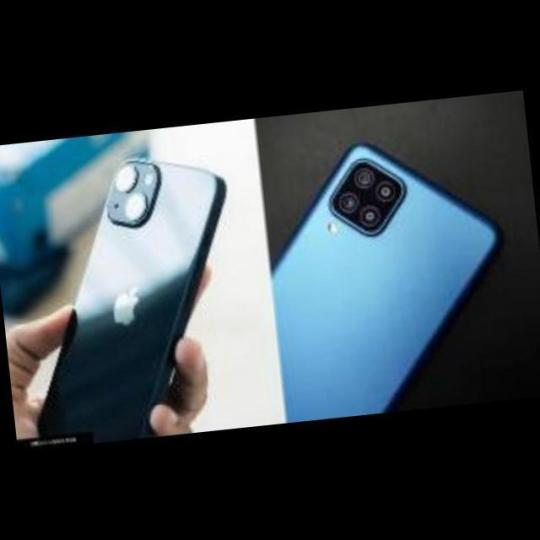phone: (264, 141, 503, 416), (31, 157, 224, 438)
